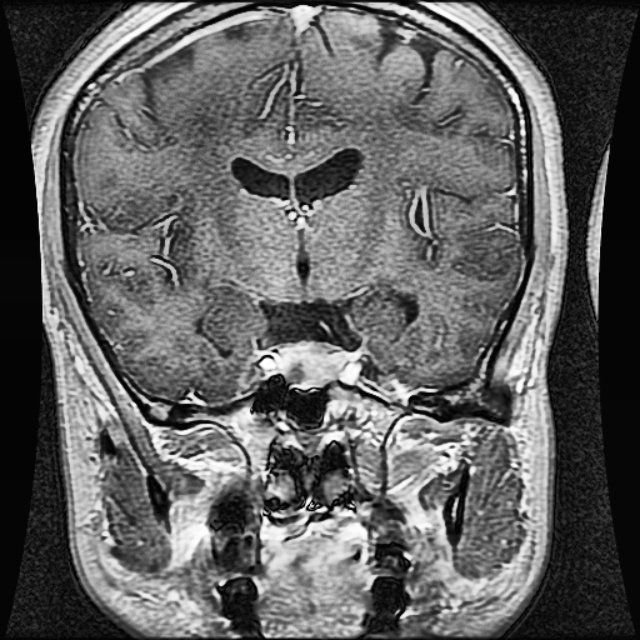Pituitary: (278, 342, 347, 388)
